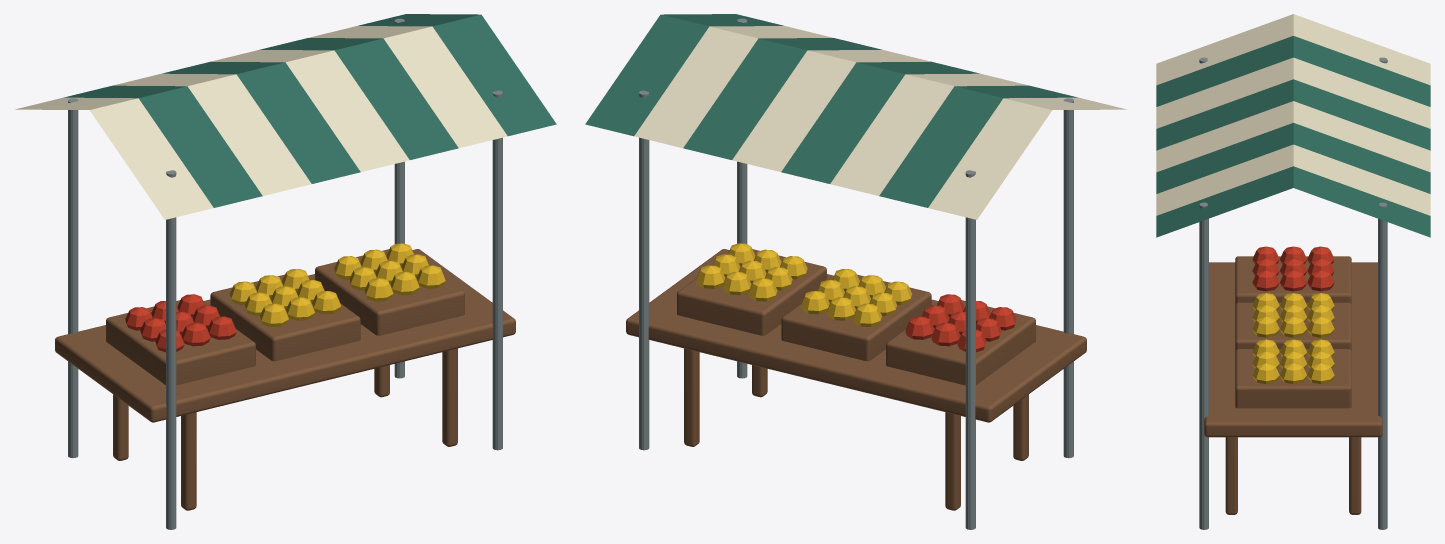
The model's file is market-stall.glb.
The picture shows the model from 3 angles, left to right: view 1: azimuth 30°, elevation 25°; view 2: azimuth 150°, elevation 25°; view 3: azimuth 270°, elevation 25°; orthographic projection. The views are drawn at different scales.
Visible parts, largest first — view 1: Counter, Striped waterproof canopy, Striped waterproof canopy.001, Canopy pole, Sphere.009, Sphere; view 2: Counter, Striped waterproof canopy, Striped waterproof canopy.001, Canopy pole, Sphere.009, Sphere; view 3: Striped waterproof canopy, Striped waterproof canopy.001, Counter, Sphere.009, Canopy pole, Sphere.
Part boxes in pixels (left/top/right/bottom): Counter: left=55, top=249, right=515, bottom=510; Striped waterproof canopy: left=15, top=26, right=507, bottom=219; Striped waterproof canopy.001: left=64, top=14, right=556, bottom=207; Canopy pole: left=68, top=18, right=502, bottom=529; Sphere.009: left=230, top=243, right=445, bottom=326; Sphere: left=125, top=294, right=236, bottom=352; Counter: left=626, top=249, right=1086, bottom=510; Striped waterproof canopy: left=634, top=26, right=1126, bottom=219; Striped waterproof canopy.001: left=585, top=14, right=1077, bottom=207; Canopy pole: left=639, top=18, right=1073, bottom=529; Sphere.009: left=696, top=243, right=911, bottom=326; Sphere: left=905, top=294, right=1016, bottom=352; Striped waterproof canopy: left=1156, top=14, right=1430, bottom=215; Striped waterproof canopy.001: left=1156, top=36, right=1430, bottom=237; Counter: left=1204, top=256, right=1382, bottom=514; Sphere.009: left=1252, top=293, right=1334, bottom=383; Canopy pole: left=1199, top=57, right=1387, bottom=529; Sphere: left=1252, top=246, right=1334, bottom=291.
Bounding box in the file's own units: 3 × 2.85 × 2.
